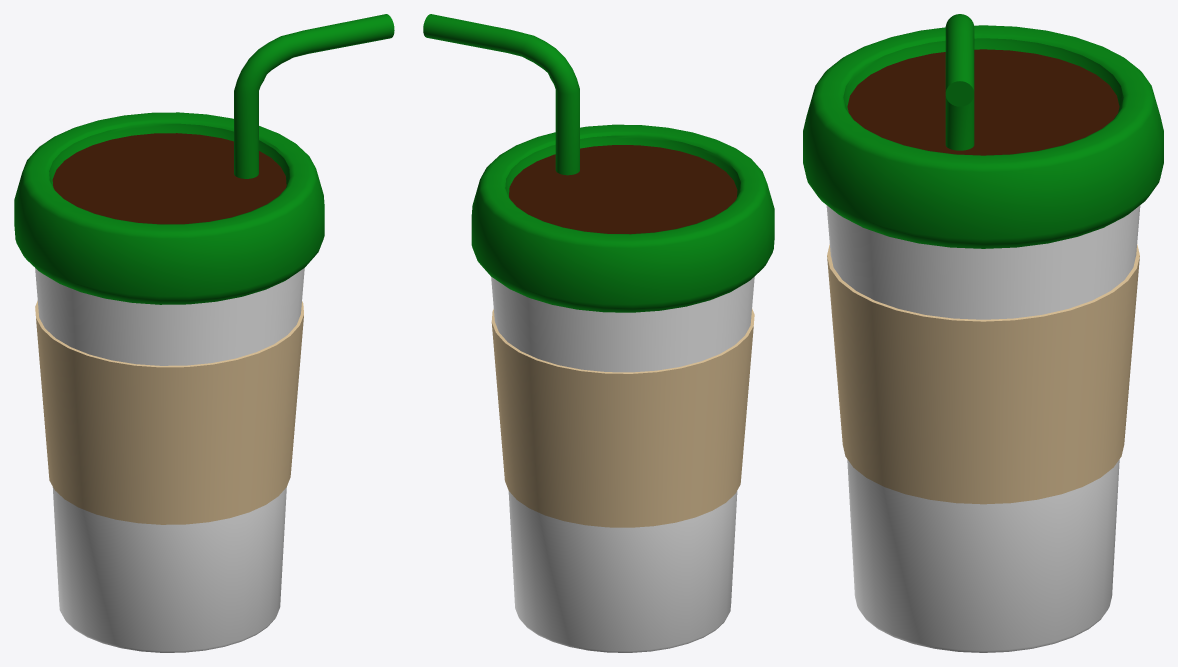
The model's file is CoffeeModel.fbx.
The picture shows the model from 3 angles, left to right: view 1: azimuth 30°, elevation 25°; view 2: azimuth 150°, elevation 25°; view 3: azimuth 270°, elevation 25°; orthographic projection. The views are drawn at different scales.
Parts seen in each view (by area): view 1: Cylinder; view 2: Cylinder; view 3: Cylinder.
Part boxes in pixels (x1,y1,x2,y2): Cylinder: [14, 14, 394, 652]; Cylinder: [423, 14, 774, 652]; Cylinder: [803, 14, 1163, 652].
Bounding box in the file's own units: 289 × 445 × 227.
